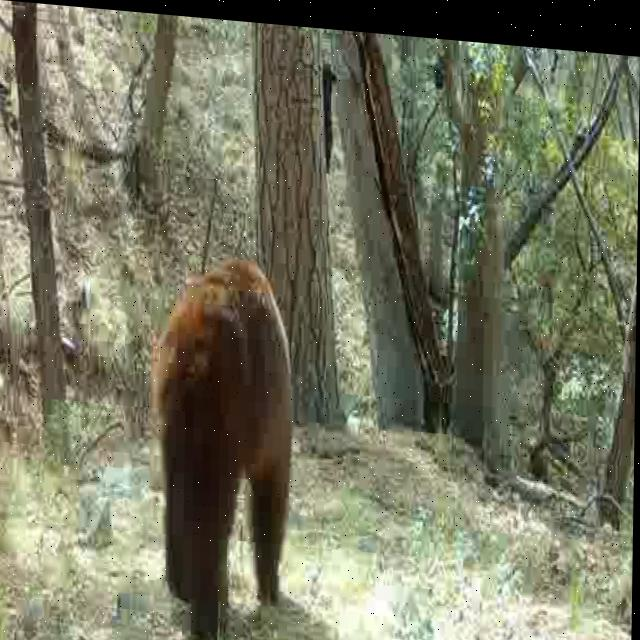bear face: (154, 247, 297, 640), (321, 58, 336, 164)
